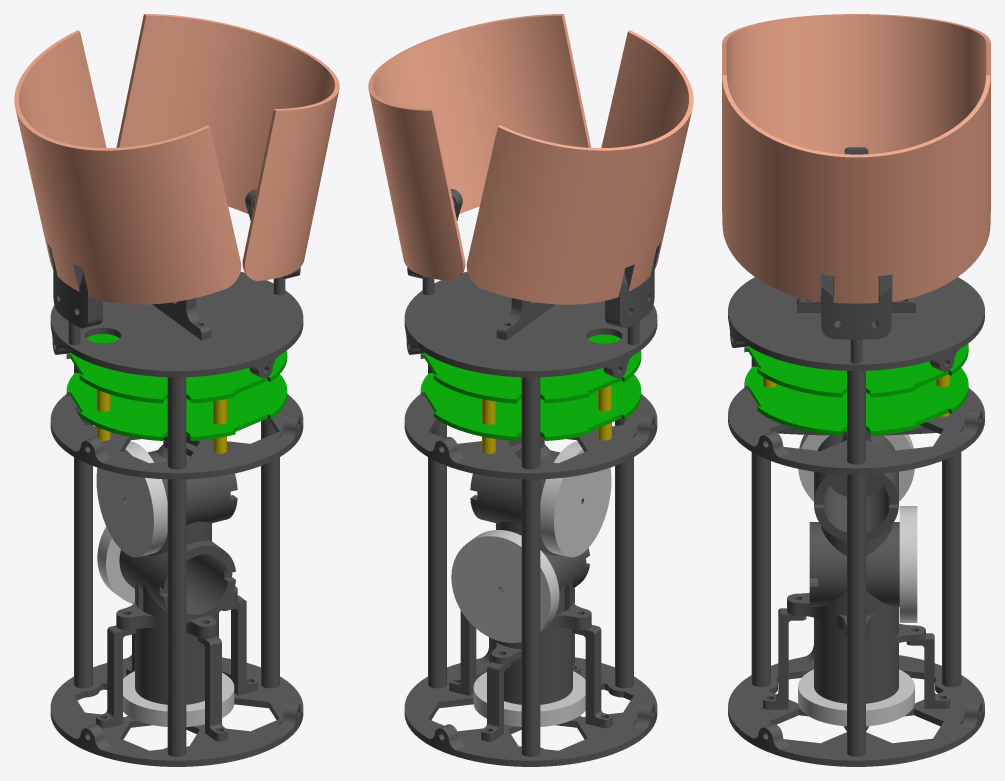
Rendered from body.glb.
3 views of the same model, side by side, from view 1: azimuth 30°, elevation 25°; view 2: azimuth 150°, elevation 25°; view 3: azimuth 270°, elevation 25° (orthographic).
Parts seen in each view (by area): view 1: Main Shell; view 2: Main Shell; view 3: Main Shell.
Part boxes in pixels (x1,y1,x2,y2): Main Shell: (14,14,339,766); Main Shell: (368,14,693,766); Main Shell: (722,14,990,766).
Bounding box in the file's own units: 145 × 309 × 115.
